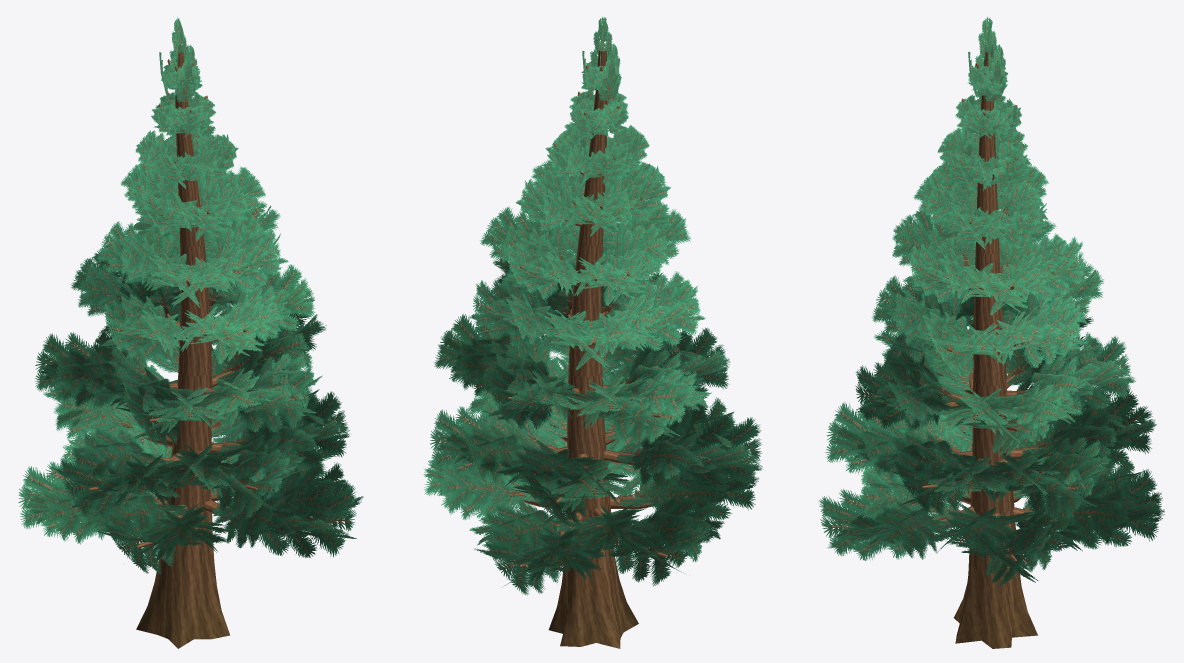
The model's file is pine.glb.
The picture shows the model from 3 angles, left to right: view 1: azimuth 30°, elevation 25°; view 2: azimuth 150°, elevation 25°; view 3: azimuth 270°, elevation 25°; orthographic projection.
Visible parts, largest first — view 1: canopy-foliage, PineBark; view 2: canopy-foliage, PineBark; view 3: canopy-foliage, PineBark.
Part boxes in pixels (x1,y1,x2,y2): canopy-foliage: (18,17,363,573); PineBark: (62,51,331,648); canopy-foliage: (423,16,762,595); PineBark: (450,48,710,648); canopy-foliage: (818,16,1164,587); PineBark: (847,51,1132,648).
Size of the model in its own units: 3.06 by 5.75 by 3.15.
2 materials, 2 textured.
